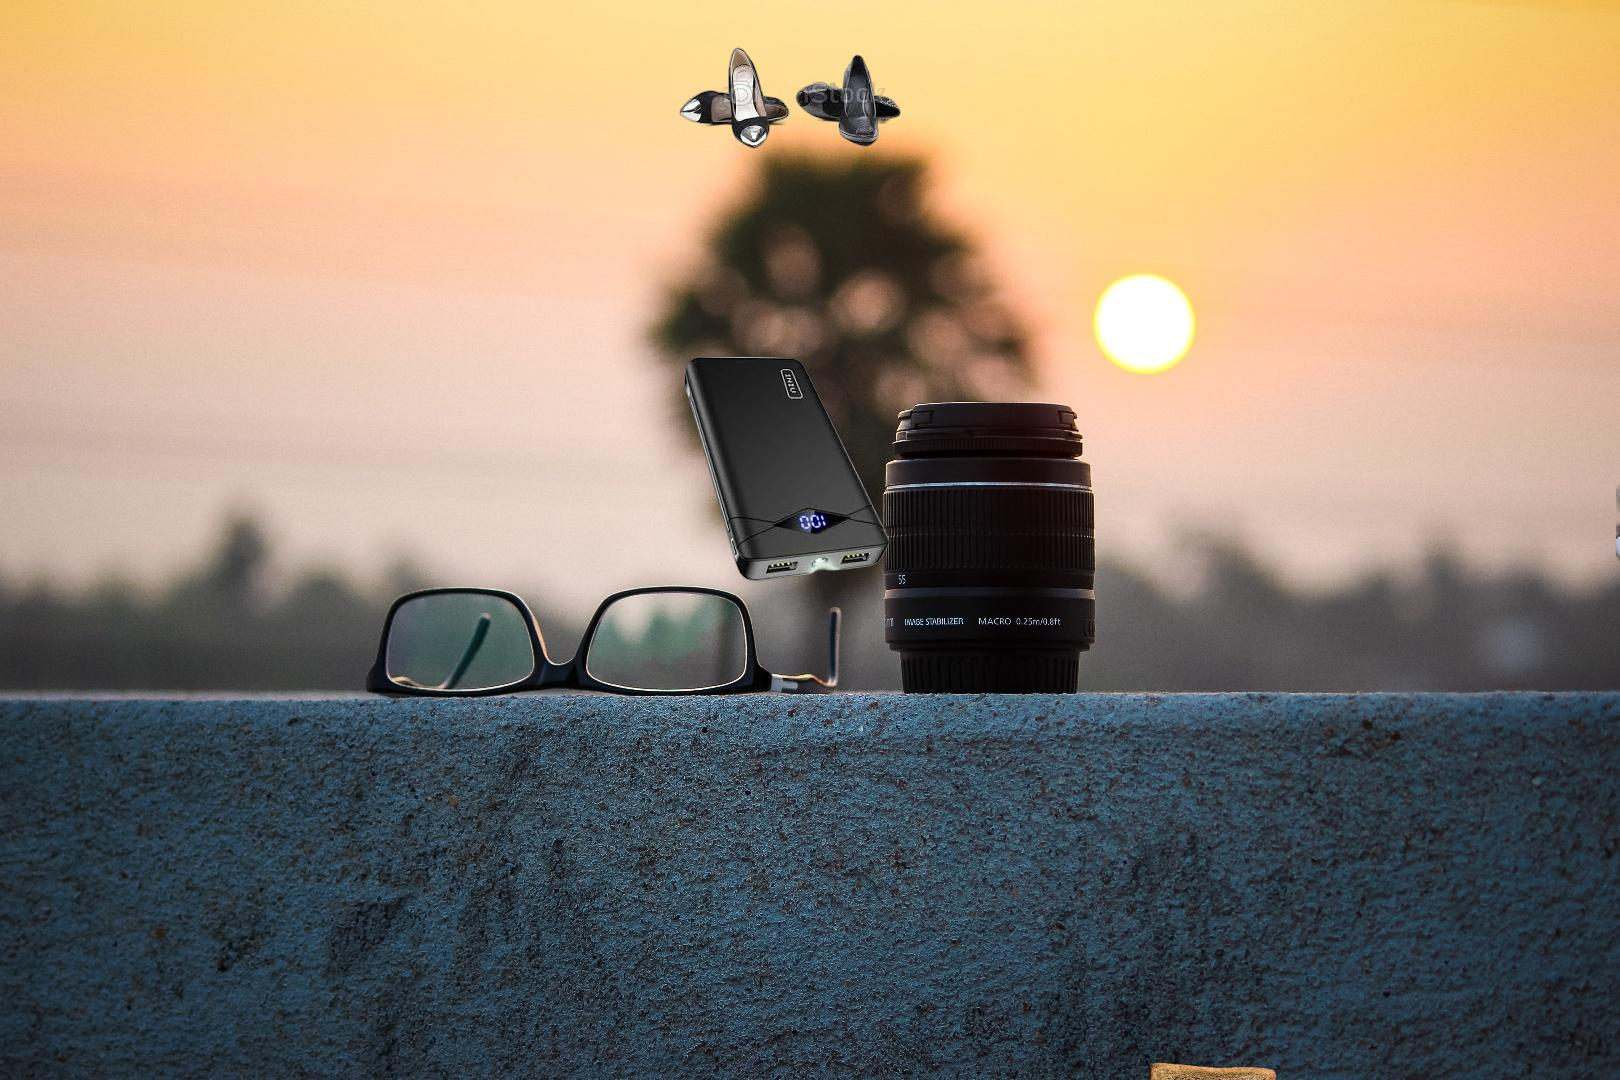battery: (683, 357, 891, 585)
biological: (306, 1002, 588, 1080), (1139, 1060, 1279, 1080)
plastic-bottles: (1616, 201, 1620, 839)
shoes: (677, 45, 903, 151)
